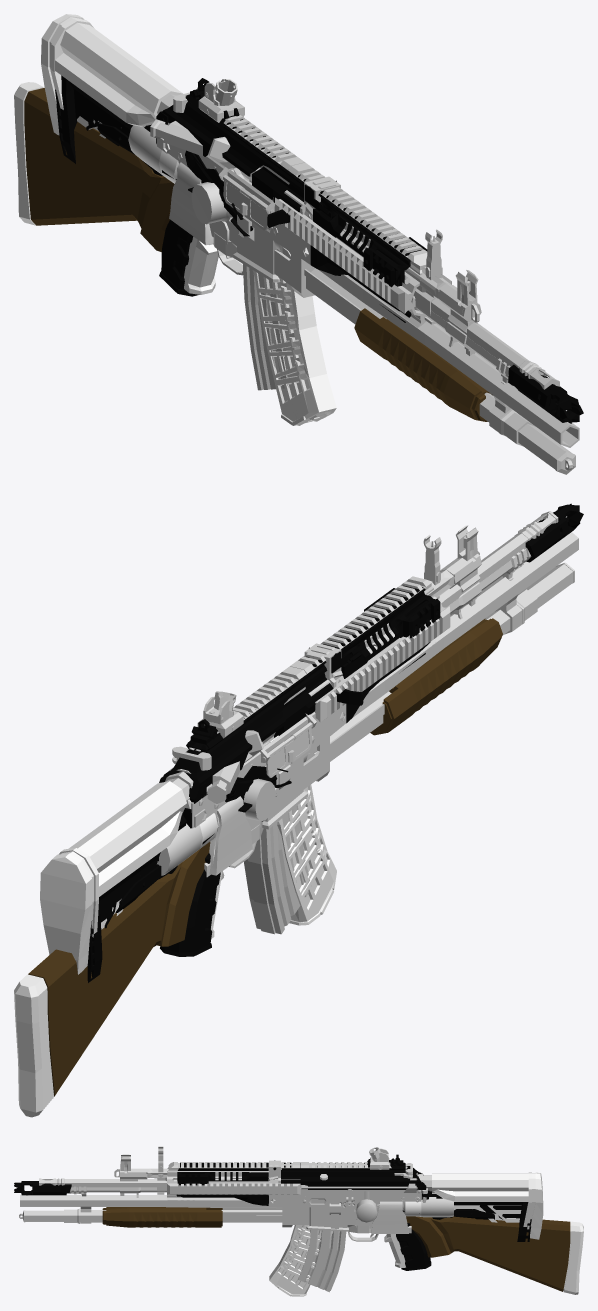
File: Guns.fbx
3 renders of one model, top to bottom at view 1: azimuth 30°, elevation 25°; view 2: azimuth 150°, elevation 25°; view 3: azimuth 270°, elevation 25°, orthographic. The views are drawn at different scales.
Visible parts, largest first — view 1: Mossberg590, AK12, HK416, Scope, Holographic, HK416RearSight; view 2: Mossberg590, HK416, AK12, Scope, Holographic, HK416RearSight; view 3: Mossberg590, HK416, AK12, Scope, Holographic, HK416RearSight.
Boxes of the visible parts, box(x1,y1,x2,y2) form: Mossberg590: box(14, 82, 579, 474); AK12: box(55, 75, 583, 425); HK416: box(41, 14, 559, 390); Scope: box(128, 125, 281, 257); Holographic: box(169, 162, 229, 245); HK416RearSight: box(198, 79, 244, 122); Mossberg590: box(14, 532, 578, 1117); HK416: box(40, 511, 558, 974); AK12: box(87, 503, 583, 982); Scope: box(157, 754, 307, 877); Holographic: box(209, 796, 260, 875); HK416RearSight: box(197, 691, 243, 738); Mossberg590: box(19, 1195, 583, 1294); HK416: box(39, 1146, 543, 1292); AK12: box(14, 1154, 531, 1296); Scope: box(329, 1191, 453, 1233); Holographic: box(356, 1201, 408, 1233); HK416RearSight: box(369, 1147, 389, 1169).
Bounding box in the file's own units: 8.74 × 27.78 × 97.9.
